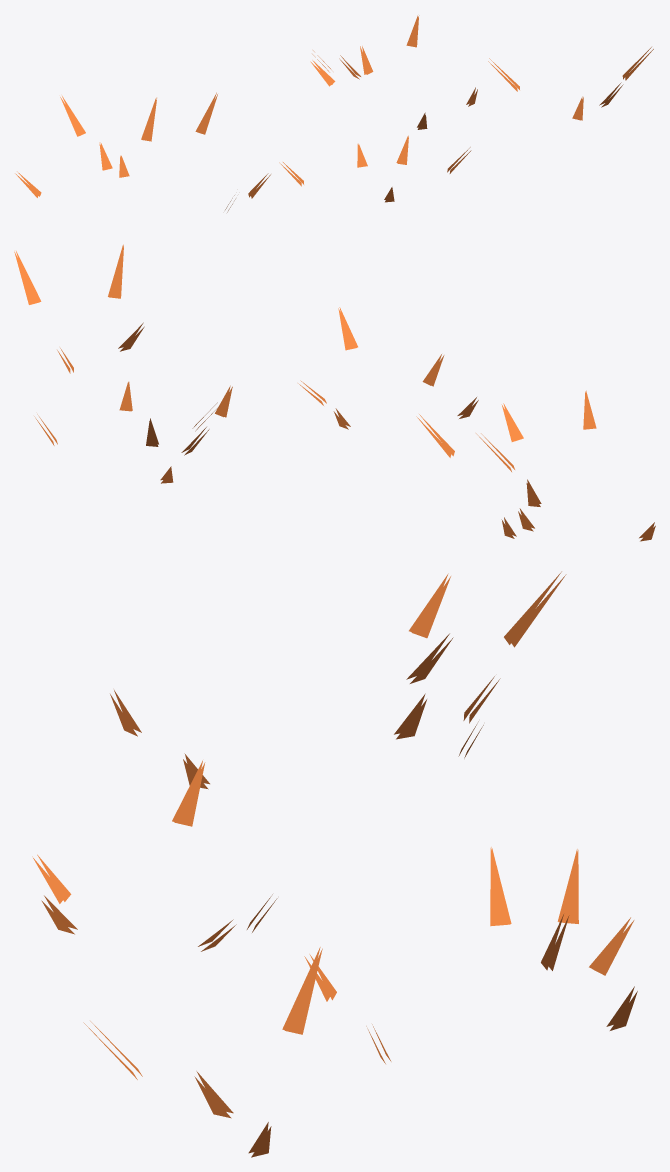
File: floor_vent_ash_glow.fbx
3 renders of one model, top to bottom at view 1: azimuth 30°, elevation 25°; view 2: azimuth 150°, elevation 25°; view 3: azimuth 270°, elevation 25°, orthographic. The views are drawn at different scales.
Parts seen in each view (by area): view 1: floor_vent_ash_glow; view 2: floor_vent_ash_glow; view 3: floor_vent_ash_glow.
Part boxes in pixels (left/top/right/bottom): floor_vent_ash_glow: left=15, top=15, right=653, bottom=212; floor_vent_ash_glow: left=14, top=244, right=655, bottom=541; floor_vent_ash_glow: left=32, top=571, right=637, bottom=1157.
Bounding box in the file's own units: 1554 × 204 × 706.
Materials: 1 (1 with a texture image).
